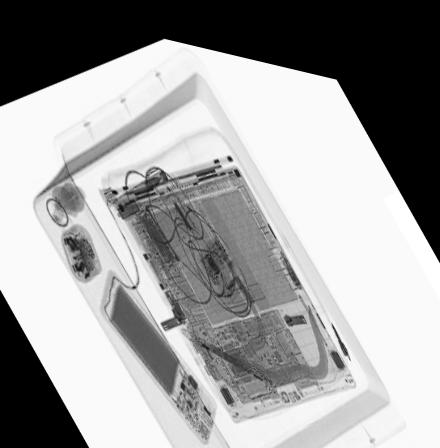Powerbank: (99, 256, 220, 444)
